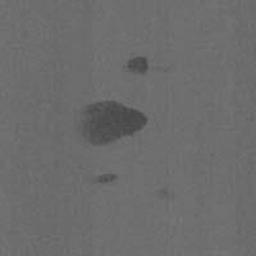Oil spot: (73, 99, 148, 147), (122, 54, 148, 77), (151, 187, 175, 204), (91, 172, 118, 186)
